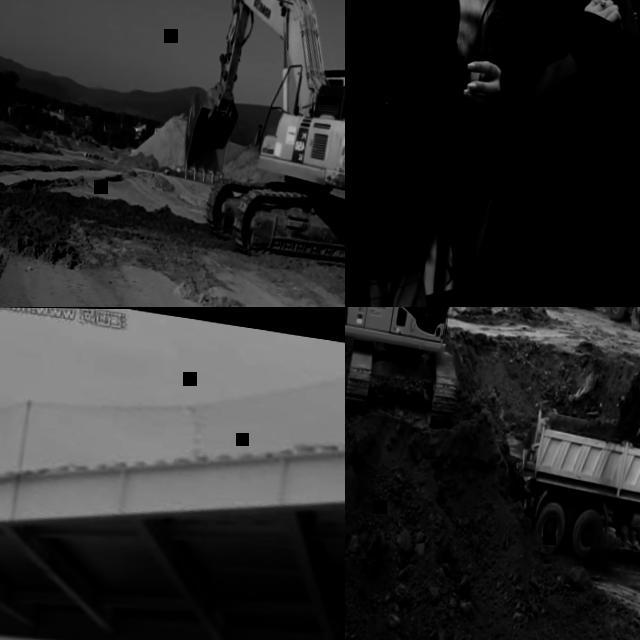machinery: (169, 0, 345, 276), (345, 307, 640, 466), (507, 382, 640, 588)
no_vest: (453, 0, 640, 307), (345, 0, 475, 307)
person: (345, 0, 563, 307), (434, 0, 640, 307), (415, 307, 446, 331)
